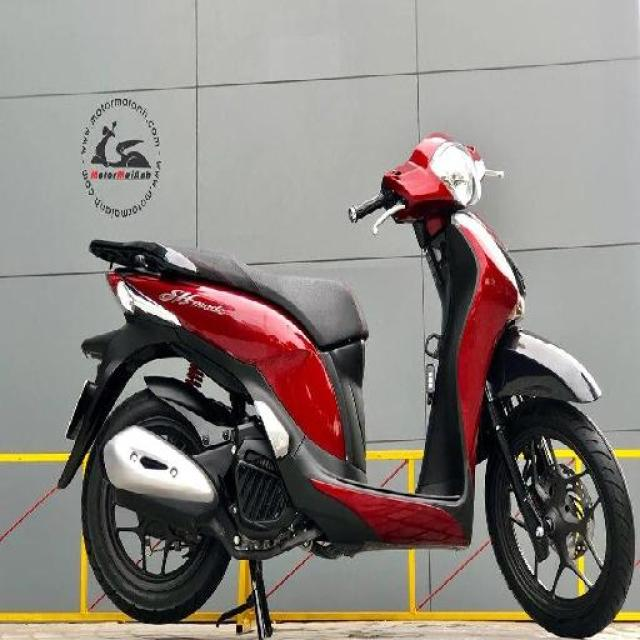All: (52, 118, 638, 640)
Head: (342, 134, 507, 226)
Tail: (86, 236, 171, 324)
